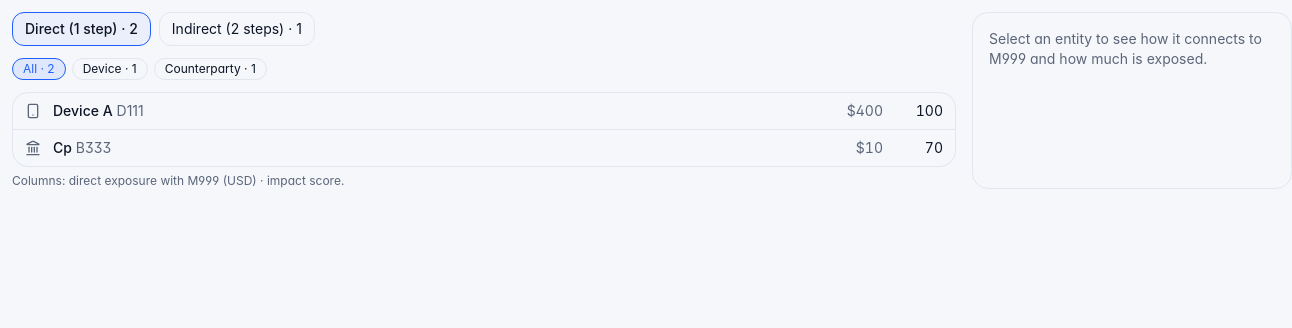
blast radius › explorer groups by step and type, and links the selection to the Entity Graph
Click the button "Device A D111 $400 100": (83, 110) [13,93,955,129]
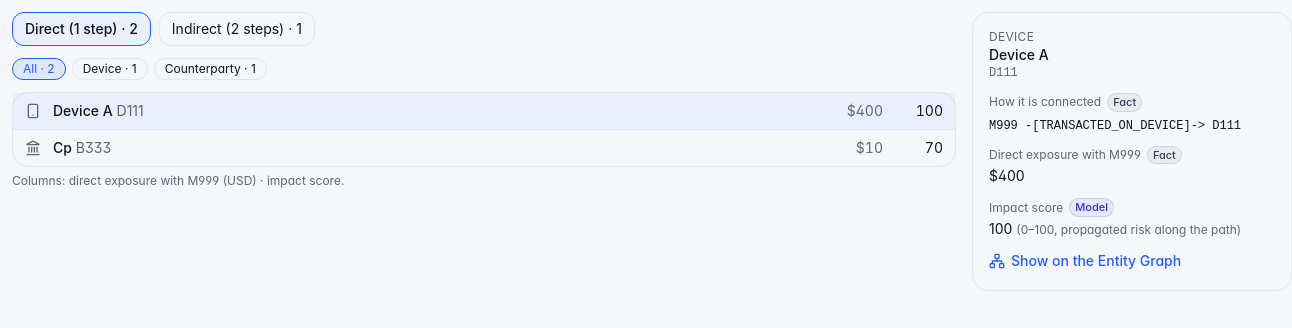
Expected: the element with test id "impact-detail" shows "M999 -[TRANSACTED_ON_DEVICE]-> D111", [989,119,1241,133]
Expected: the element with test id "impact-detail" shows "$400", [989,167,1025,184]
Click the tab "Indirect (2 steps) · 1": (237, 29) [159,12,315,46]
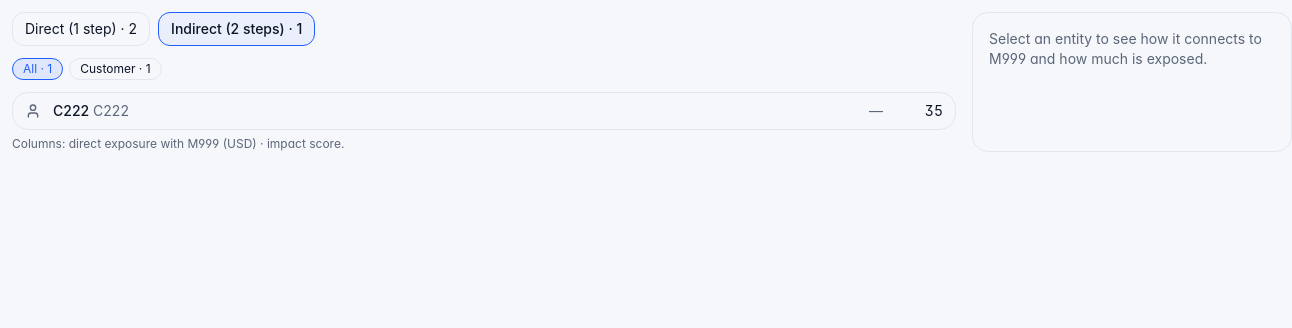
Click the button "C222 C222 — 35": (71, 110) [13,93,955,129]
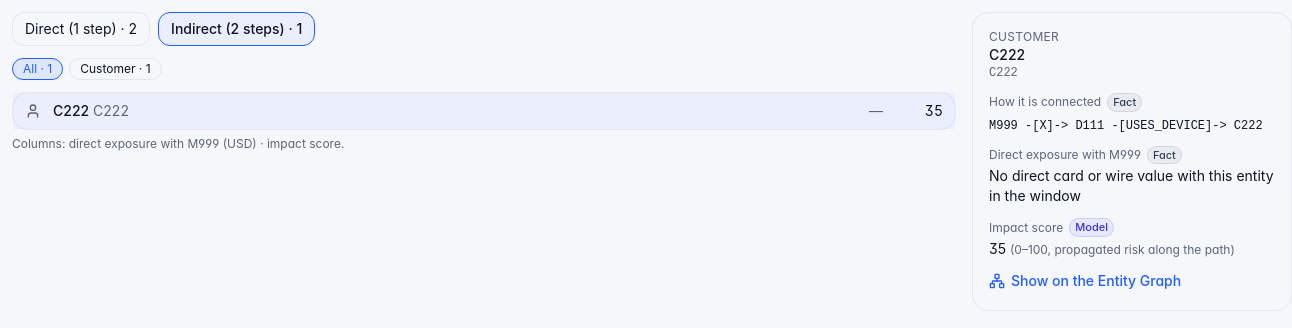
Expected: the element with test id "impact-detail" shows "No direct card or wire value", [989,167,1274,204]
